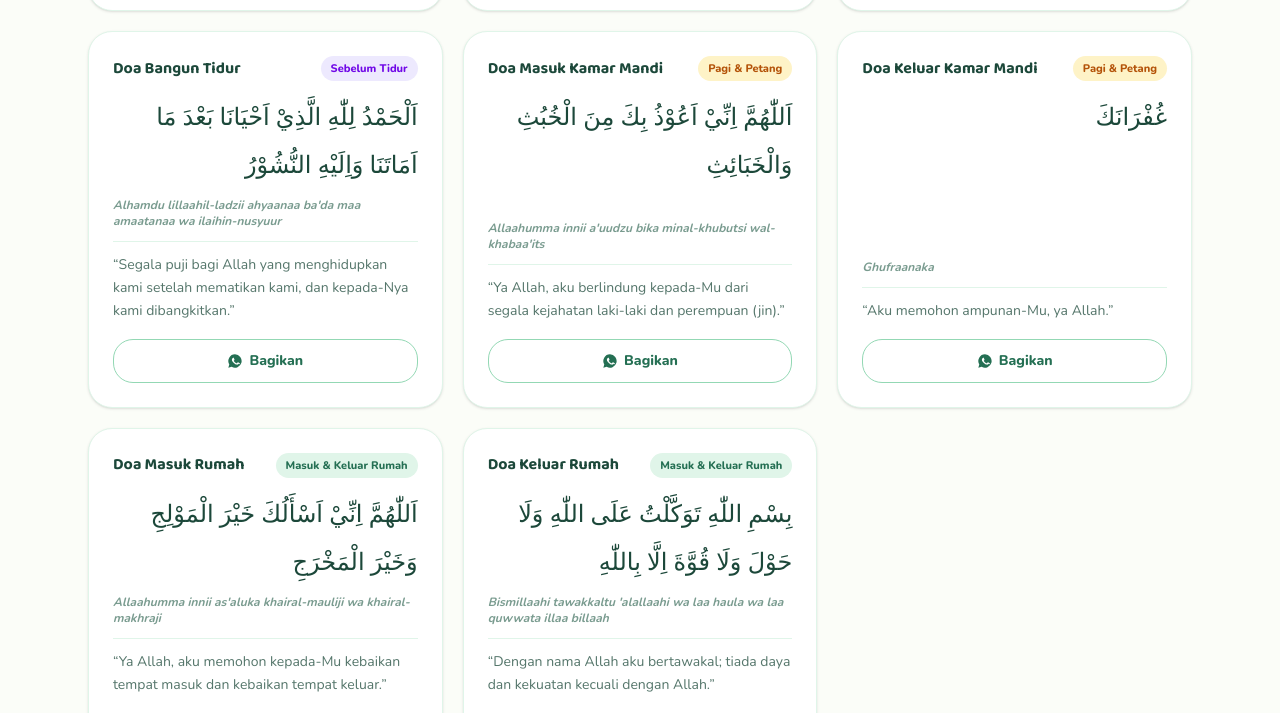
DoaCatalog › shows a share toast with a WhatsApp link after sharing
(page scrolled)
What coordinates should you click on to do the following:
click the button with aria-label "Doa Bangun Tidur"
I would click on:
 (265, 361)
Its box is [113, 339, 418, 383].
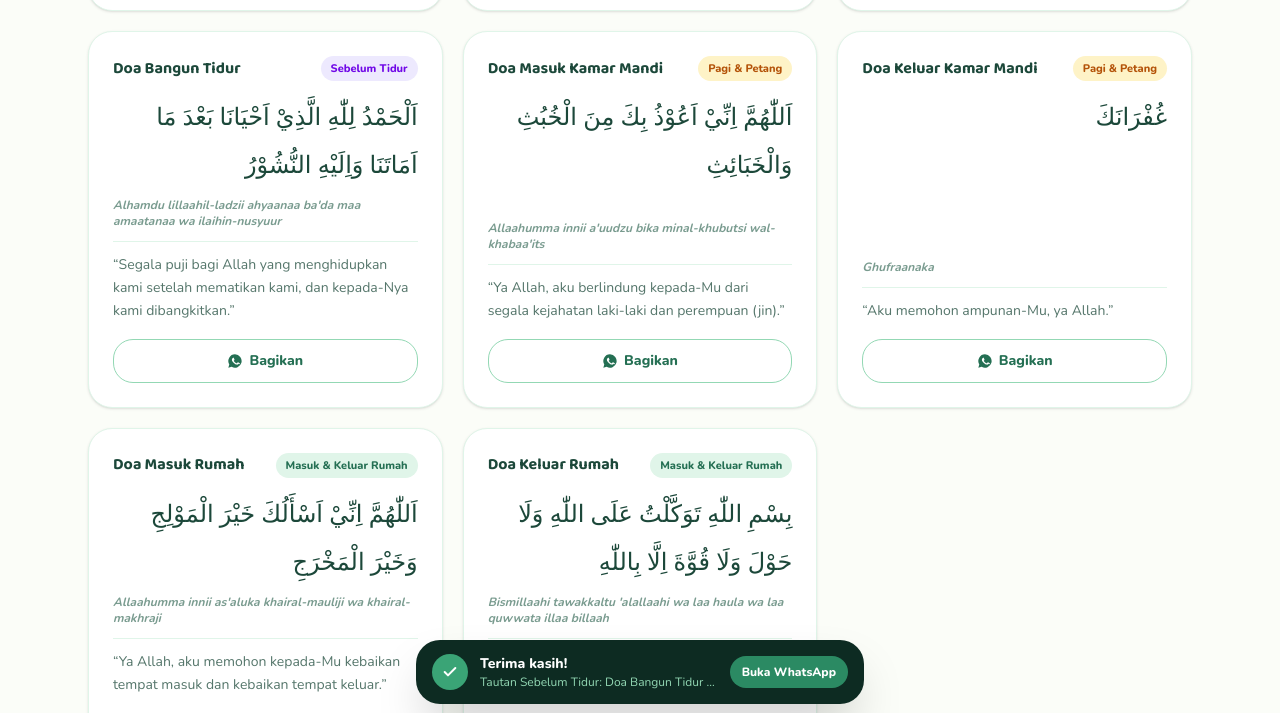
Check: the message shows "Terima kasih!", box [480, 654, 567, 673]
